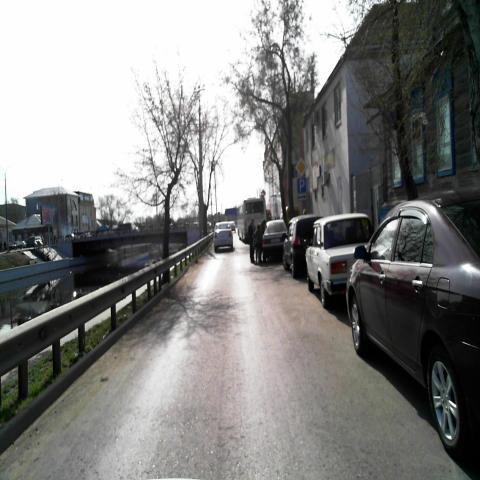6_4: (297, 177, 306, 193)
